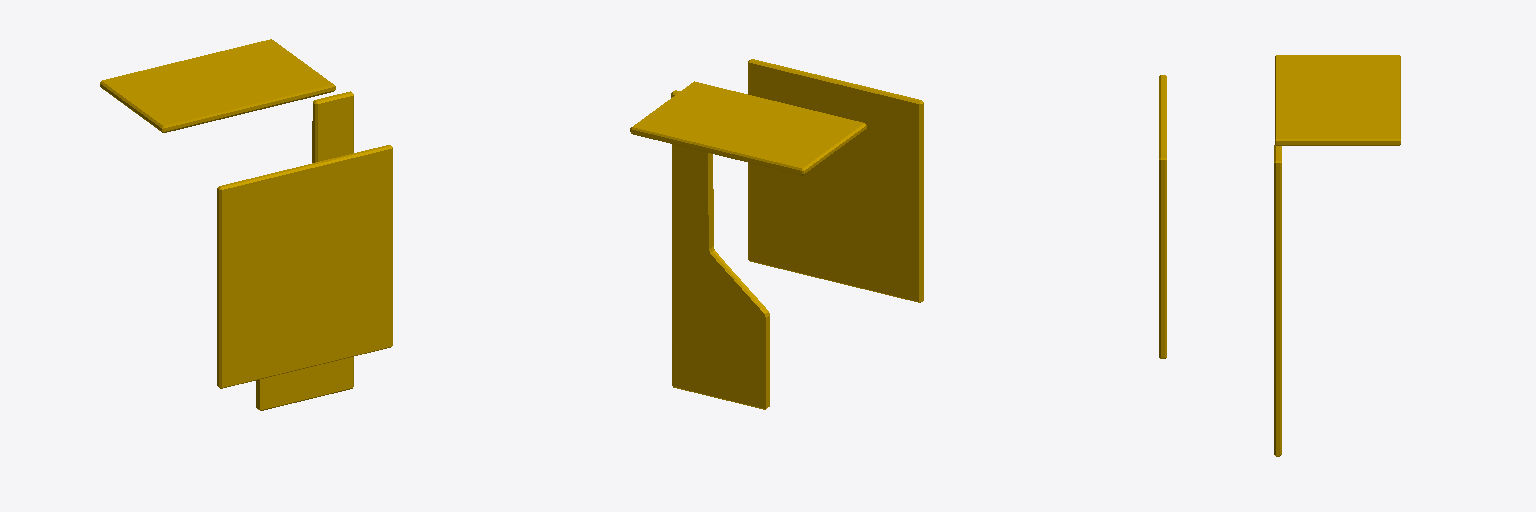
File: CADEIRA1a.obj
The picture shows the model from 3 angles: view 1: azimuth 30°, elevation 25°; view 2: azimuth 150°, elevation 25°; view 3: azimuth 270°, elevation 25°; orthographic projection.
Size of the model in its own units: 3.71 by 5.68 by 4.05.